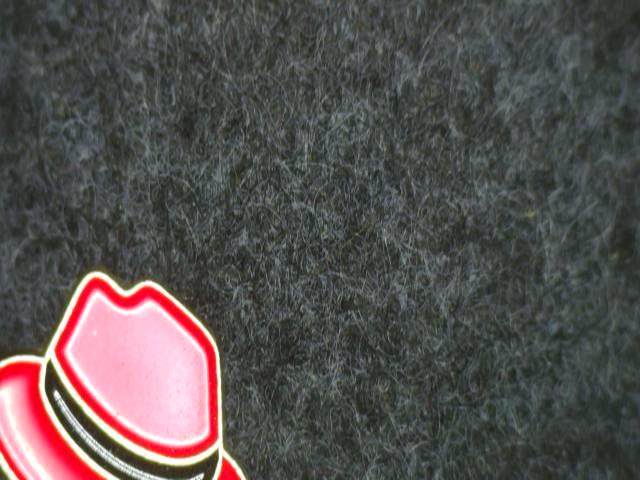Red-Hat: (0, 257, 294, 480)
